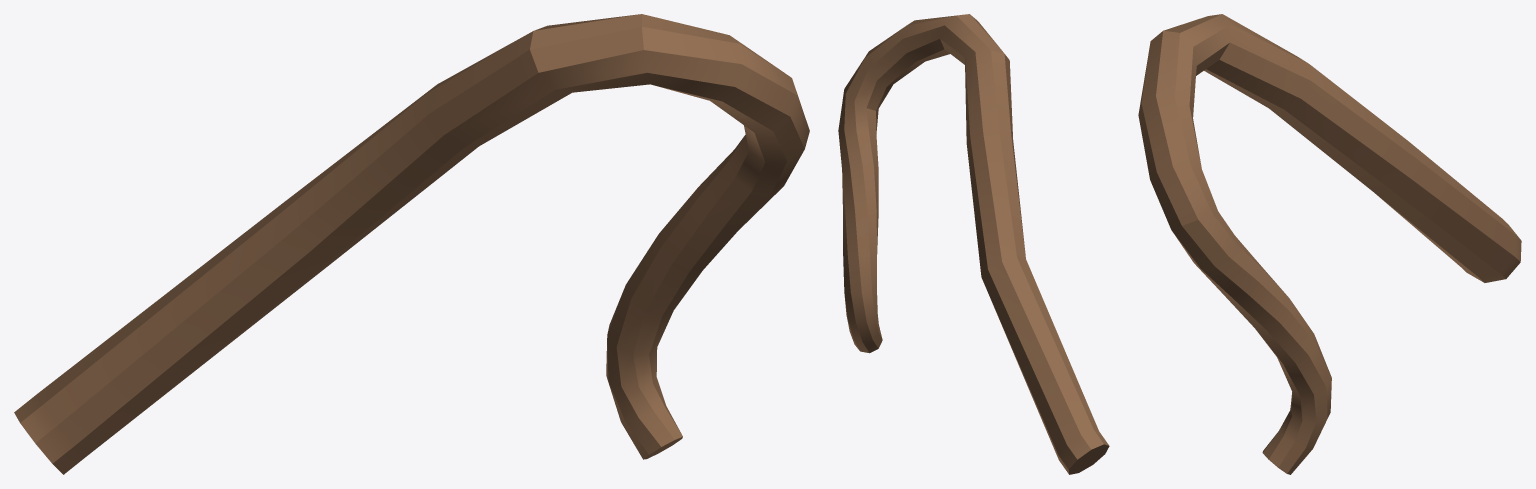
The picture shows the model from 3 angles, left to right: view 1: azimuth 30°, elevation 25°; view 2: azimuth 150°, elevation 25°; view 3: azimuth 270°, elevation 25°; orthographic projection. The views are drawn at different scales.
Parts seen in each view (by area): view 1: pCylinder4; view 2: pCylinder4; view 3: pCylinder4.
Part boxes in pixels (x1,y1,x2,y2): pCylinder4: (14,14,809,474); pCylinder4: (838,14,1109,474); pCylinder4: (1138,14,1521,474).
Size of the model in its own units: 11.99 by 9.79 by 8.31.
